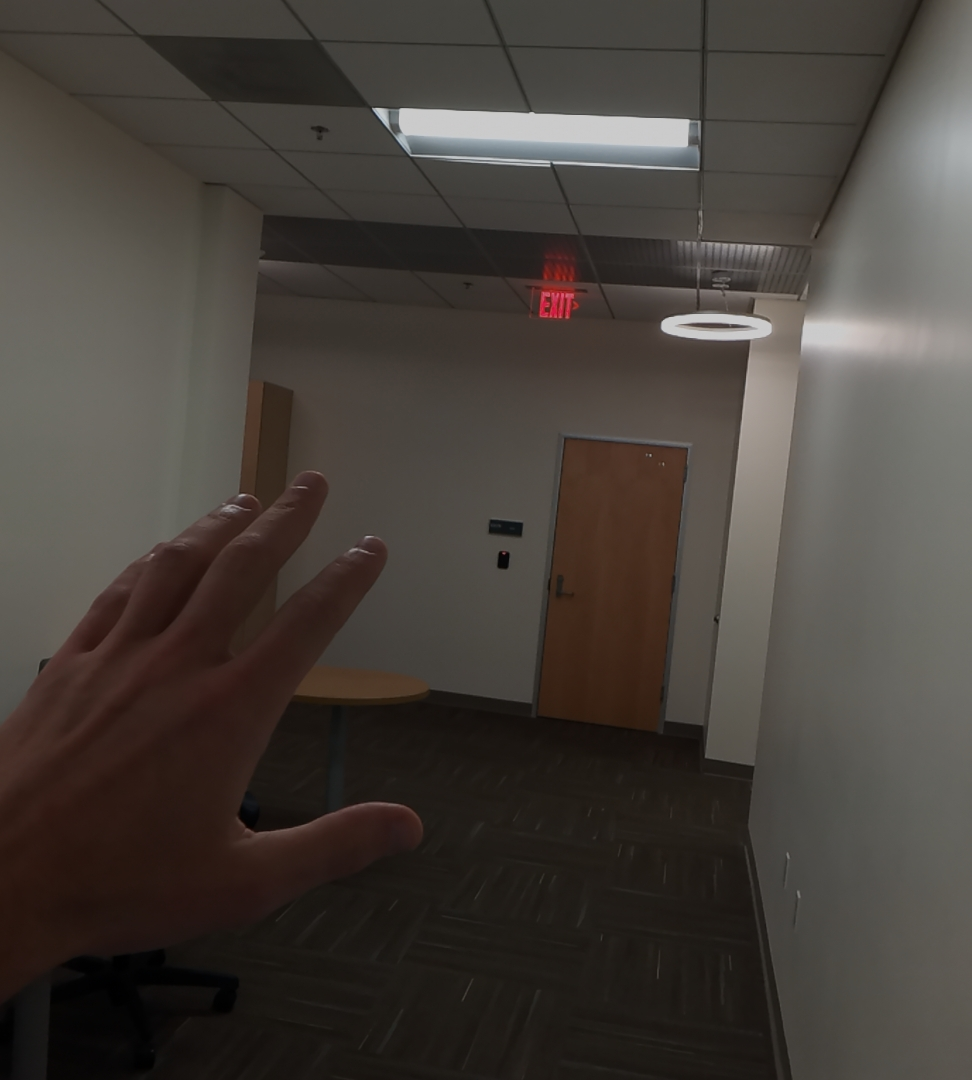emergency_exit: (527, 243, 589, 324)
